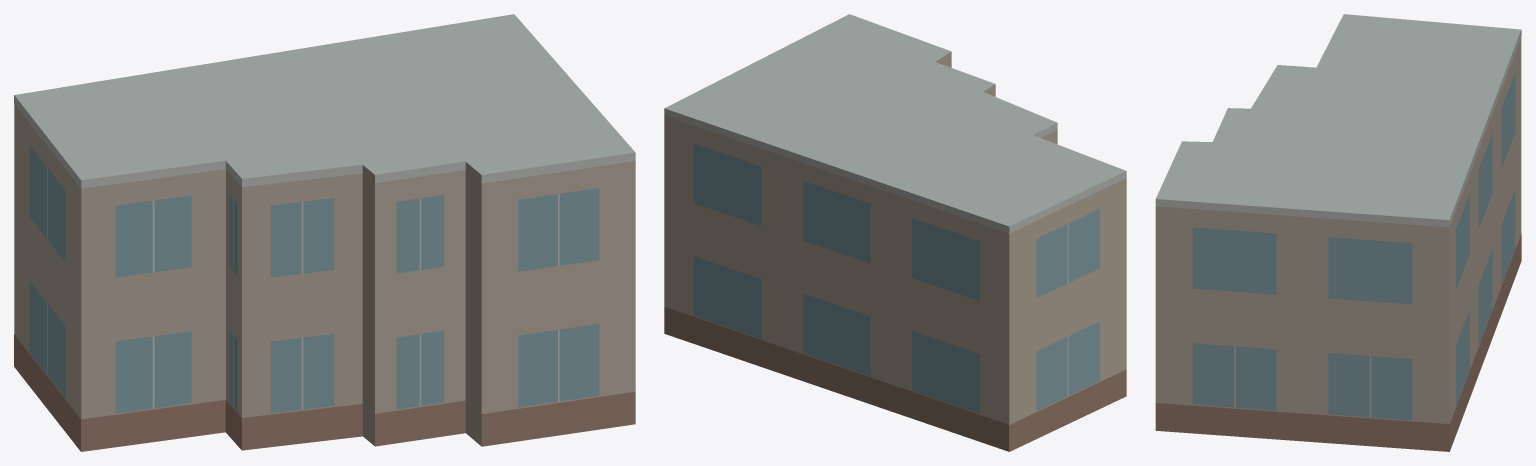
File: survey-upis-32739024.glb
The picture shows the model from 3 angles, left to right: view 1: azimuth 30°, elevation 25°; view 2: azimuth 150°, elevation 25°; view 3: azimuth 270°, elevation 25°; orthographic projection. The views are drawn at different scales.
Visible parts, largest first — view 1: survey-upis-32739024.tmp; view 2: survey-upis-32739024.tmp; view 3: survey-upis-32739024.tmp.
Boxes of the visible parts, box(x1,y1,x2,y2) form: survey-upis-32739024.tmp: box(14, 14, 635, 451); survey-upis-32739024.tmp: box(664, 14, 1126, 451); survey-upis-32739024.tmp: box(1155, 14, 1521, 451).
Size of the model in its own units: 14.9 by 7.8 by 11.17.
